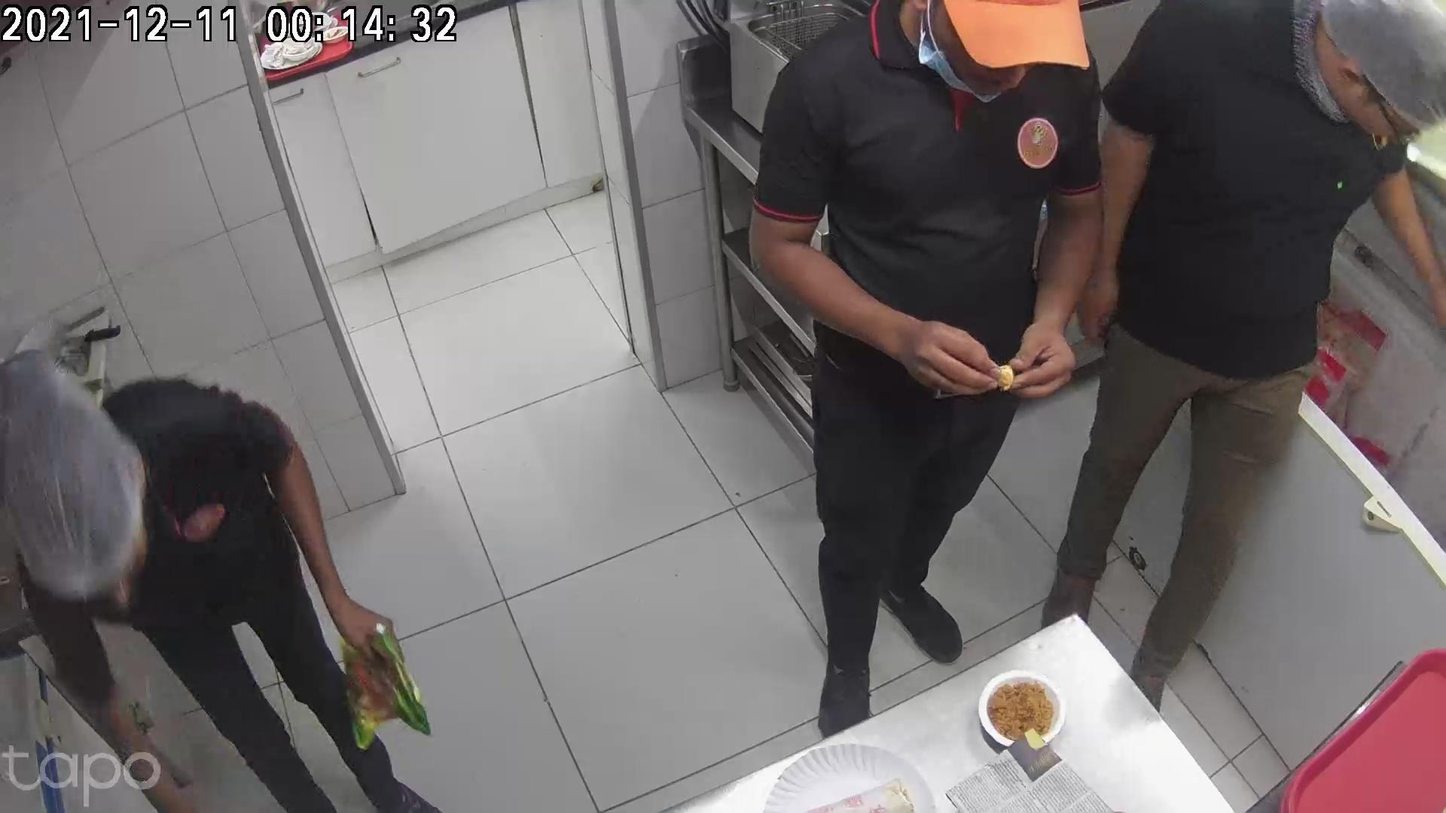gloves: (796, 674, 901, 809)
